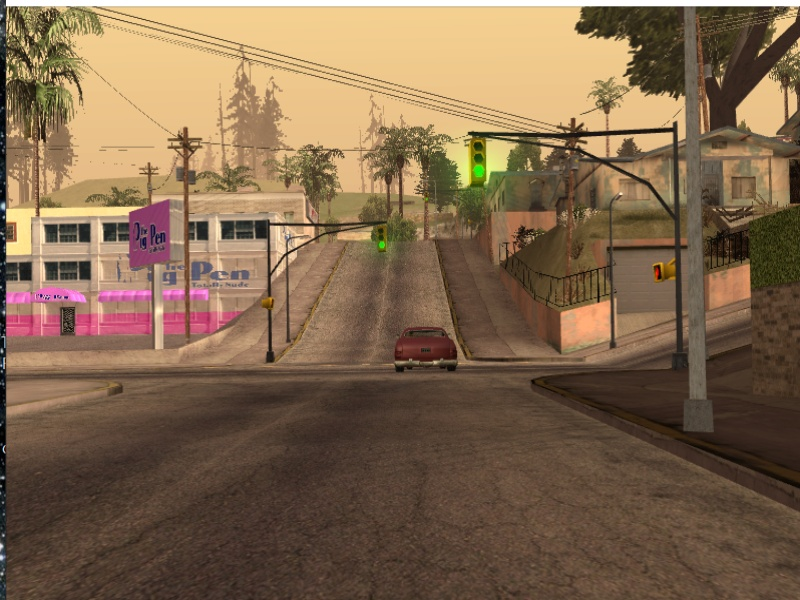pole: (678, 11, 726, 442), (667, 120, 689, 372), (264, 224, 280, 362), (607, 201, 620, 352), (283, 243, 296, 341)
vehicle: (391, 328, 466, 370)
